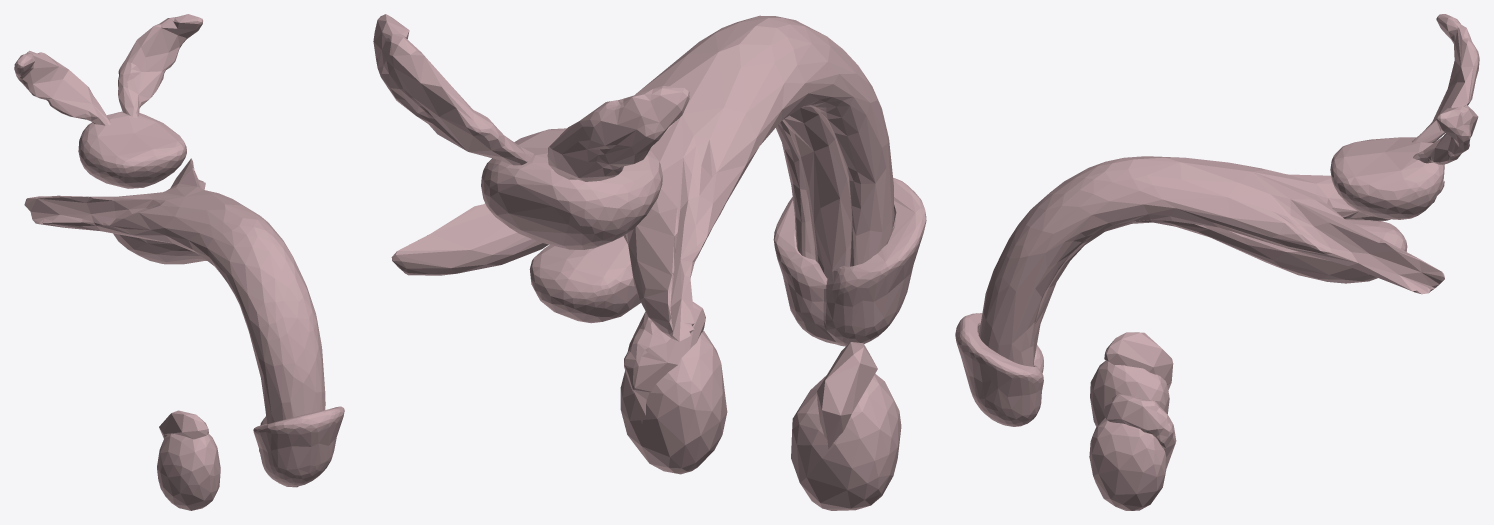
Rendered from reproductive-00.glb.
3 renders of one model, left to right at view 1: azimuth 30°, elevation 25°; view 2: azimuth 150°, elevation 25°; view 3: azimuth 270°, elevation 25°, orthographic. The views are drawn at different scales.
Parts seen in each view (by area): view 1: FJ3132, FJ3139, FJ3134, FJ3137, FJ3142, FJ3143, FJ3133, FJ3141; view 2: FJ3132, FJ3133, FJ3139, FJ3134, FJ3142, FJ3138, FJ3137, FJ3143, FJ3136, FJ3141; view 3: FJ3132, FJ3139, FJ3134, FJ3138, FJ3133, FJ3143, FJ3142, FJ3136, FJ3141, FJ3137.
Boxes of the visible parts, x1,y1,x2,y2 form: FJ3132: [24, 158, 325, 424]; FJ3139: [78, 111, 186, 188]; FJ3134: [253, 406, 344, 486]; FJ3137: [118, 14, 202, 117]; FJ3142: [157, 433, 220, 510]; FJ3143: [14, 50, 110, 125]; FJ3133: [113, 233, 206, 264]; FJ3141: [159, 410, 208, 439]; FJ3132: [391, 15, 893, 341]; FJ3133: [529, 106, 851, 323]; FJ3139: [481, 128, 662, 249]; FJ3134: [773, 177, 926, 346]; FJ3142: [791, 373, 901, 510]; FJ3138: [620, 331, 727, 474]; FJ3137: [373, 14, 533, 165]; FJ3143: [547, 86, 689, 181]; FJ3136: [624, 302, 705, 423]; FJ3141: [817, 342, 877, 448]; FJ3132: [978, 156, 1444, 366]; FJ3139: [1330, 137, 1444, 219]; FJ3134: [955, 313, 1043, 426]; FJ3138: [1089, 418, 1166, 510]; FJ3133: [1033, 219, 1407, 362]; FJ3143: [1412, 14, 1479, 142]; FJ3142: [1090, 360, 1169, 426]; FJ3136: [1103, 394, 1176, 468]; FJ3141: [1104, 332, 1173, 390]; FJ3137: [1413, 104, 1478, 164].
Bounding box in the file's own units: 0.0693 × 0.1286 × 0.146.
